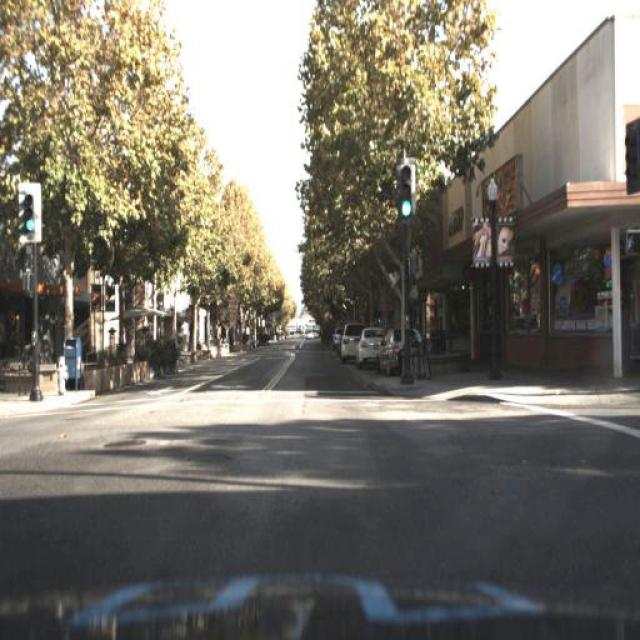semaforo: (18, 184, 42, 242), (396, 164, 415, 223)
